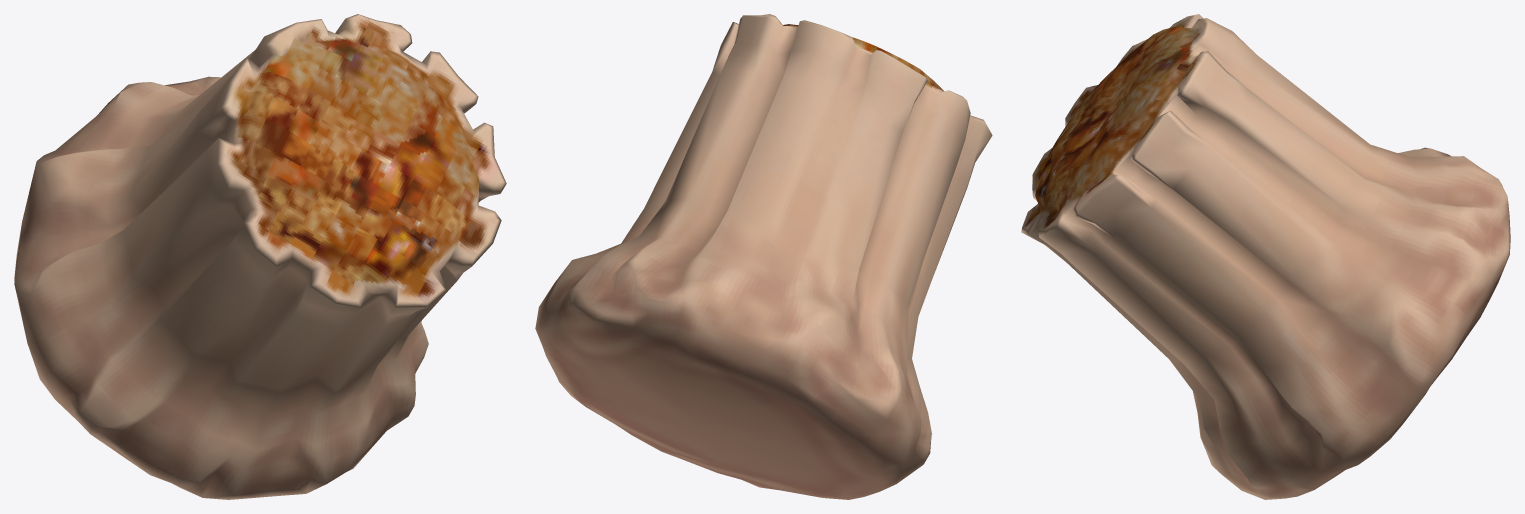
The model's file is ref_bfshaomai.glb.
The picture shows the model from 3 angles, left to right: view 1: azimuth 30°, elevation 25°; view 2: azimuth 150°, elevation 25°; view 3: azimuth 270°, elevation 25°; orthographic projection. The views are drawn at different scales.
Visible parts, largest first — view 1: ref_bfshaomai; view 2: ref_bfshaomai; view 3: ref_bfshaomai.
Boxes of the visible parts, left/top/right/bottom form: ref_bfshaomai: left=14, top=14, right=506, bottom=499; ref_bfshaomai: left=535, top=14, right=992, bottom=499; ref_bfshaomai: left=1021, top=14, right=1510, bottom=499.
Size of the model in its own units: 0.8289 by 1 by 0.9953.
Materials: 1 (1 with a texture image).
